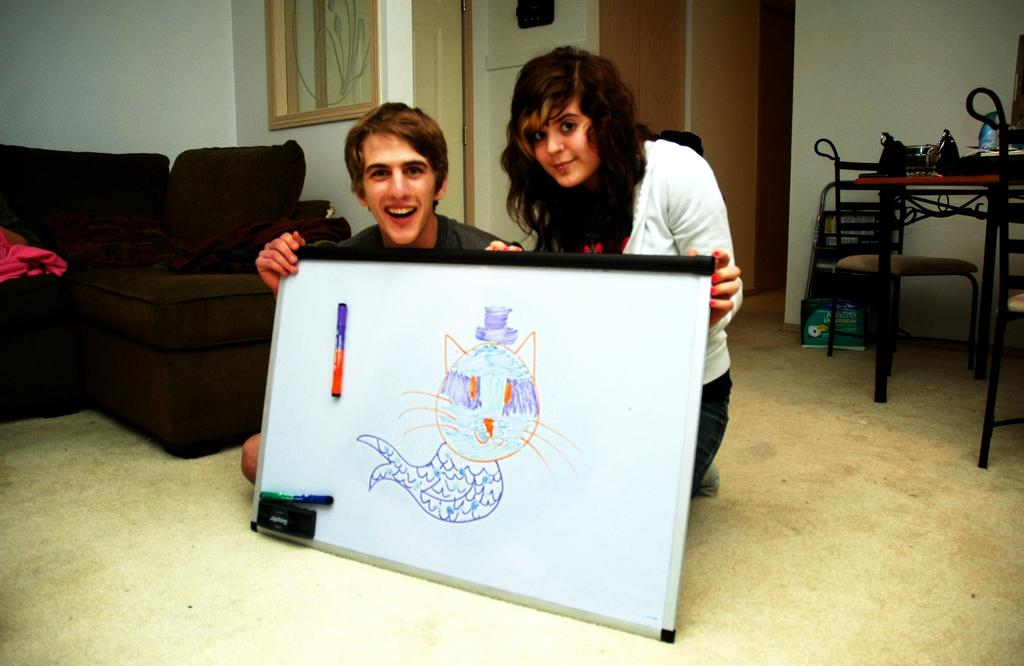Laptop: (249, 246, 717, 643)
